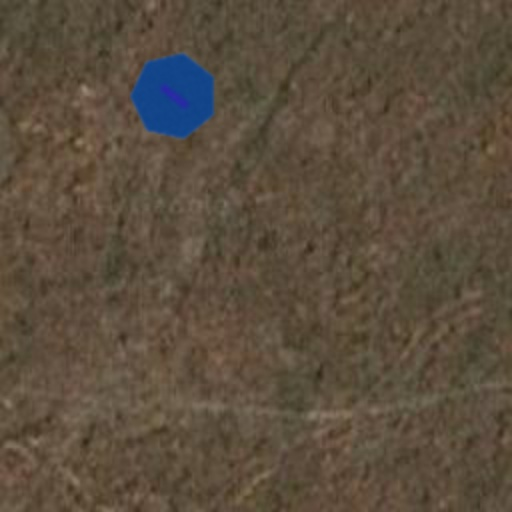heptagon: (110, 32, 238, 160)
